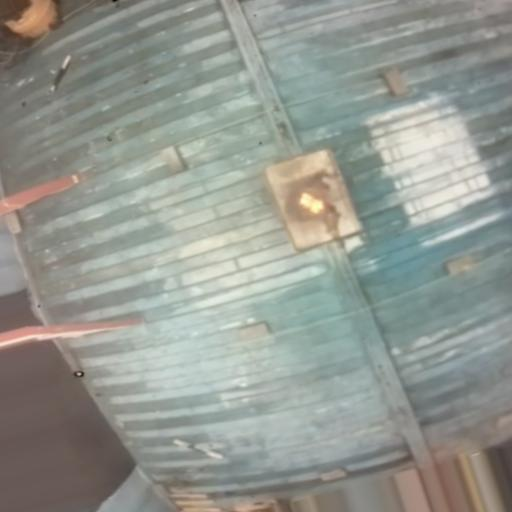Fire: (299, 192, 325, 212)
